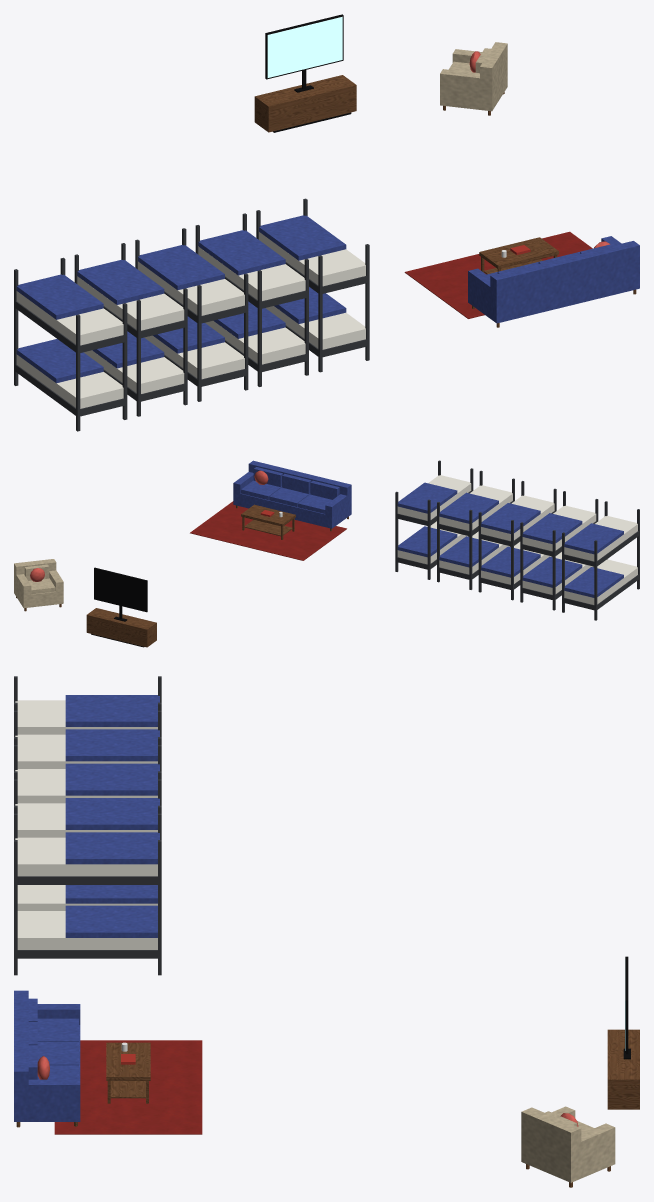
The model's file is i_totem_lodge.gltf.
3 renders of one model, top to bottom at view 1: azimuth 30°, elevation 25°; view 2: azimuth 150°, elevation 25°; view 3: azimuth 270°, elevation 25°, orthographic. The views are drawn at different scales.
Visible parts, largest first — view 1: I_totem_lodge; view 2: I_totem_lodge; view 3: I_totem_lodge.
Part boxes in pixels (x1,y1,x2,y2): I_totem_lodge: (14,14,639,431); I_totem_lodge: (14,460,639,647); I_totem_lodge: (14,676,639,1187).
Size of the model in its own units: 12.17 by 2 by 8.48.
Materials: 11 (5 with a texture image).
